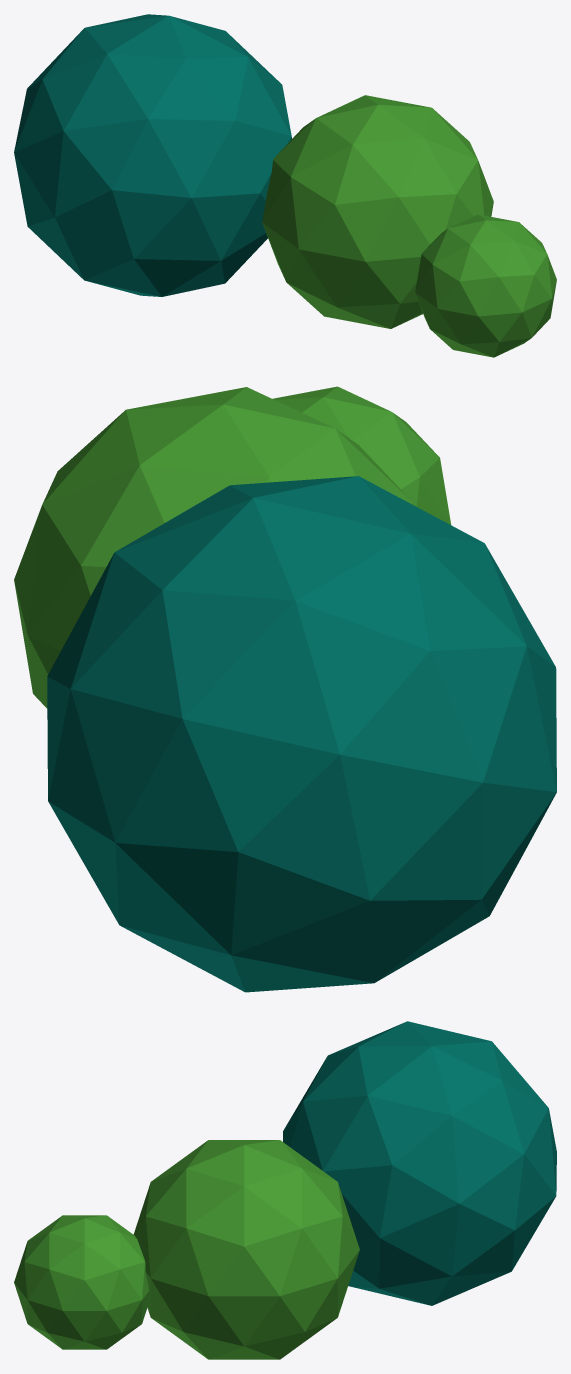
File: bush3.fbx
3 views of the same model, one above another, from view 1: azimuth 30°, elevation 25°; view 2: azimuth 150°, elevation 25°; view 3: azimuth 270°, elevation 25° (orthographic). The views are drawn at different scales.
Visible parts, largest first — view 1: Icosphere.028, Icosphere.027, Icosphere.026; view 2: Icosphere.028, Icosphere.027, Icosphere.026; view 3: Icosphere.028, Icosphere.027, Icosphere.026.
Part boxes in pixels (x1=…): Icosphere.028: x1=14, y1=14, x2=292, y2=296; Icosphere.027: x1=262, y1=95, x2=493, y2=328; Icosphere.026: x1=415, y1=214, x2=556, y2=357; Icosphere.028: x1=47, y1=476, x2=556, y2=992; Icosphere.027: x1=14, y1=387, x2=414, y2=708; Icosphere.026: x1=272, y1=386, x2=451, y2=524; Icosphere.028: x1=283, y1=1021, x2=556, y2=1305; Icosphere.027: x1=133, y1=1140, x2=359, y2=1359; Icosphere.026: x1=14, y1=1215, x2=149, y2=1349.
Bounding box in the file's own units: 99.36 × 70.49 × 136.
